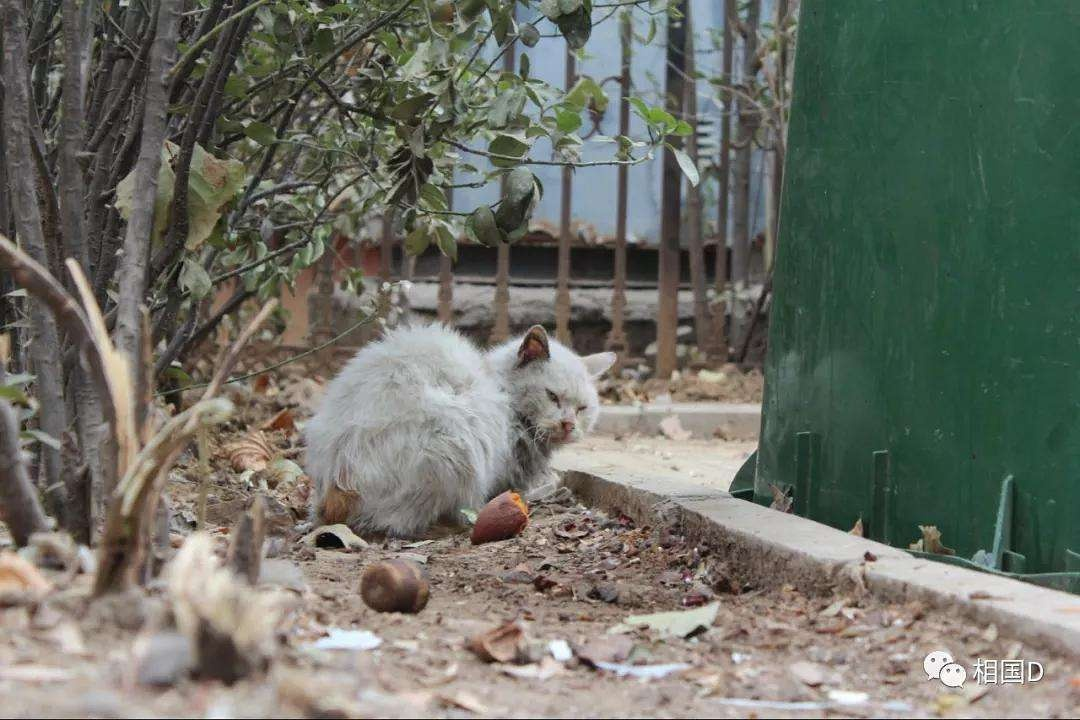cat: (302, 321, 618, 537)
